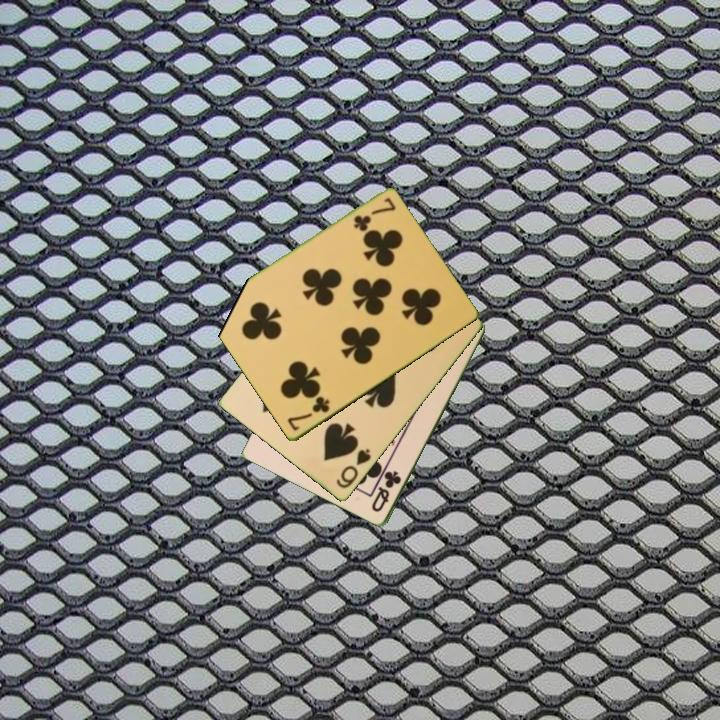6s: (332, 445, 374, 492)
7c: (284, 393, 333, 434), (350, 194, 398, 234)
Qc: (368, 467, 404, 516)
